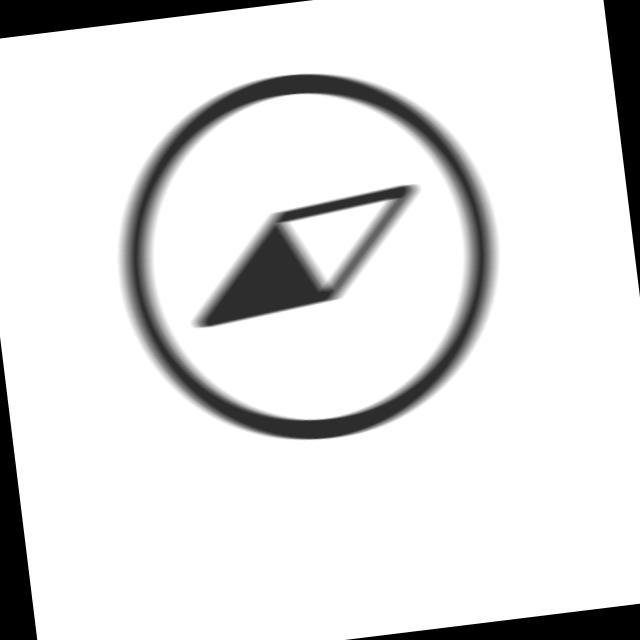compass: (90, 43, 530, 472)
